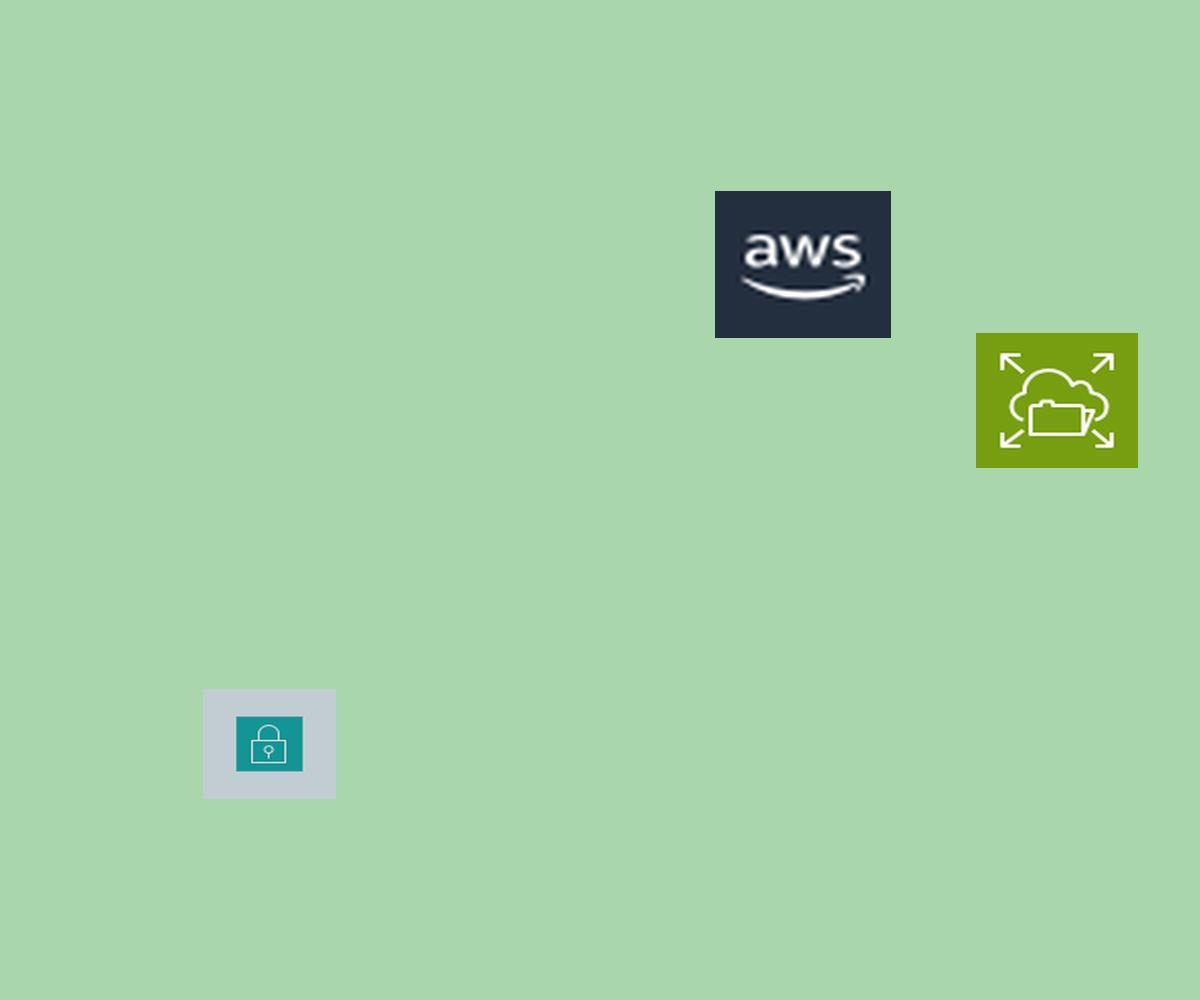AWS-Cloud-logo: (715, 191, 891, 338)
AWS-EFS: (976, 333, 1138, 468)
AWS-Private-subnet: (203, 689, 336, 799)
